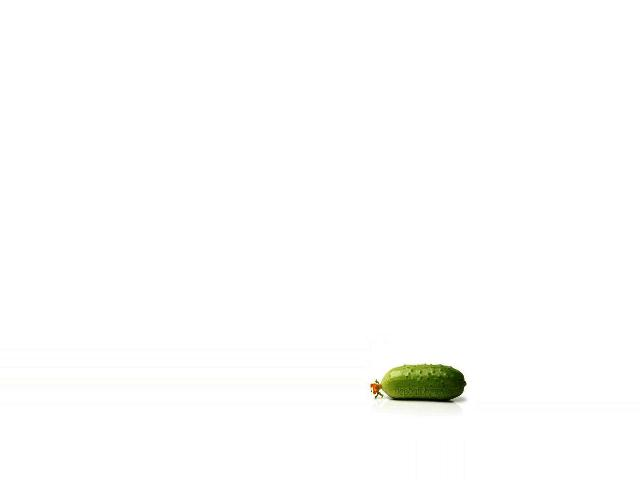cucumber: (371, 364, 467, 401)
